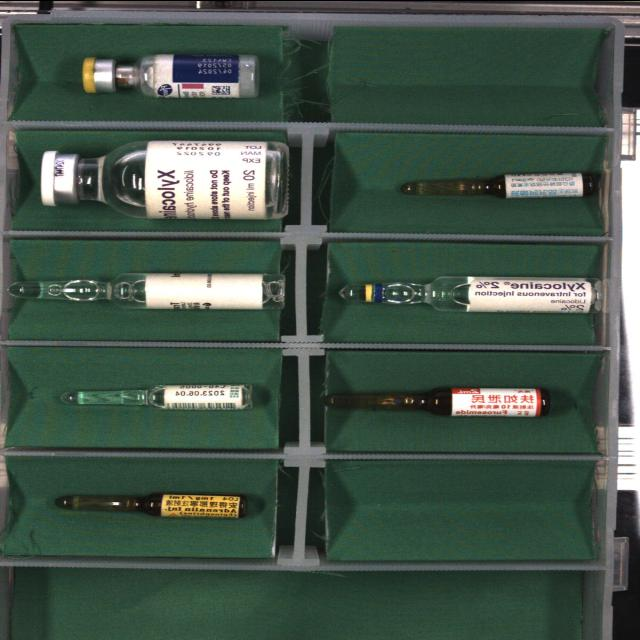Vials: (40, 140, 289, 219), (82, 53, 258, 96)
